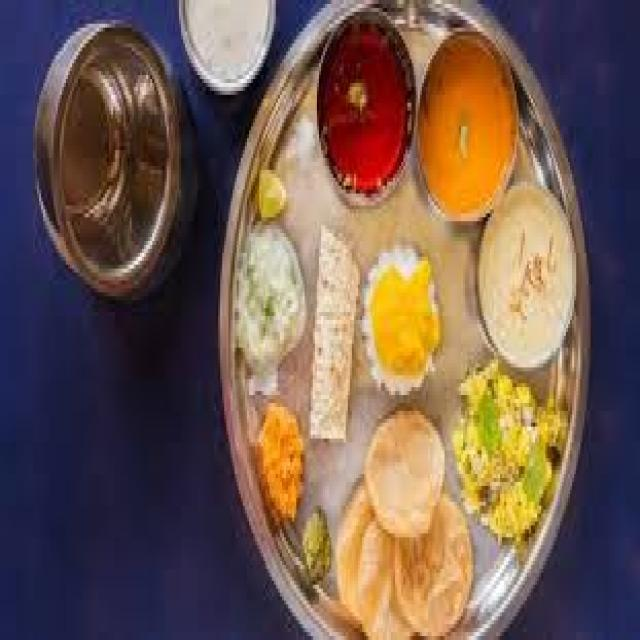curd: (174, 3, 282, 80)
dal: (415, 41, 522, 217)
raita: (228, 228, 310, 370)
rice: (359, 235, 447, 399), (228, 232, 312, 373)
roti: (330, 409, 471, 640)
sambar-rasam: (174, 0, 284, 87)
sweet: (310, 16, 416, 197), (478, 186, 579, 367)
veg-fry: (443, 353, 573, 543)
